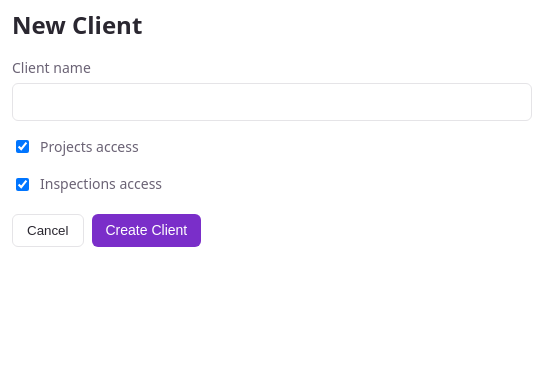
Test: ClientCreatePage › shows an API error and does not navigate away on failure
Type "Dup Co" into the field labelled "Client name" at x=272, y=102, box x1=12 y1=83 x2=532 y2=121
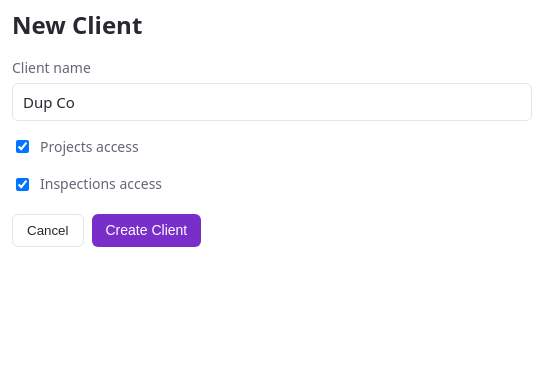
Click the button "Create Client" at x=146, y=230, box x1=92 y1=214 x2=201 y2=247
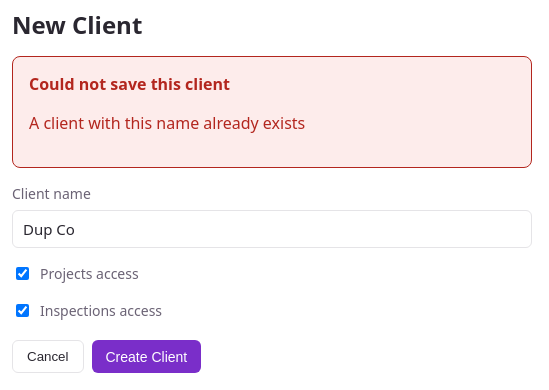
Expected: the text "A client with this name already exists" is shown, x1=29 y1=112 x2=305 y2=134
